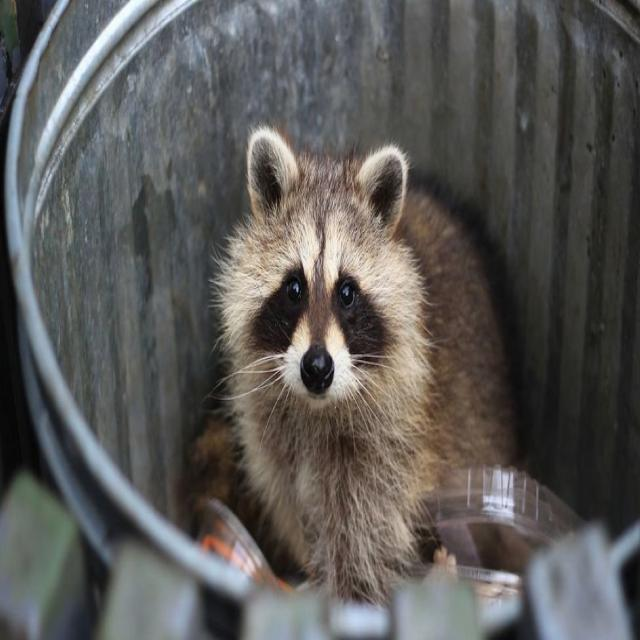raccoon: (186, 126, 516, 602)
